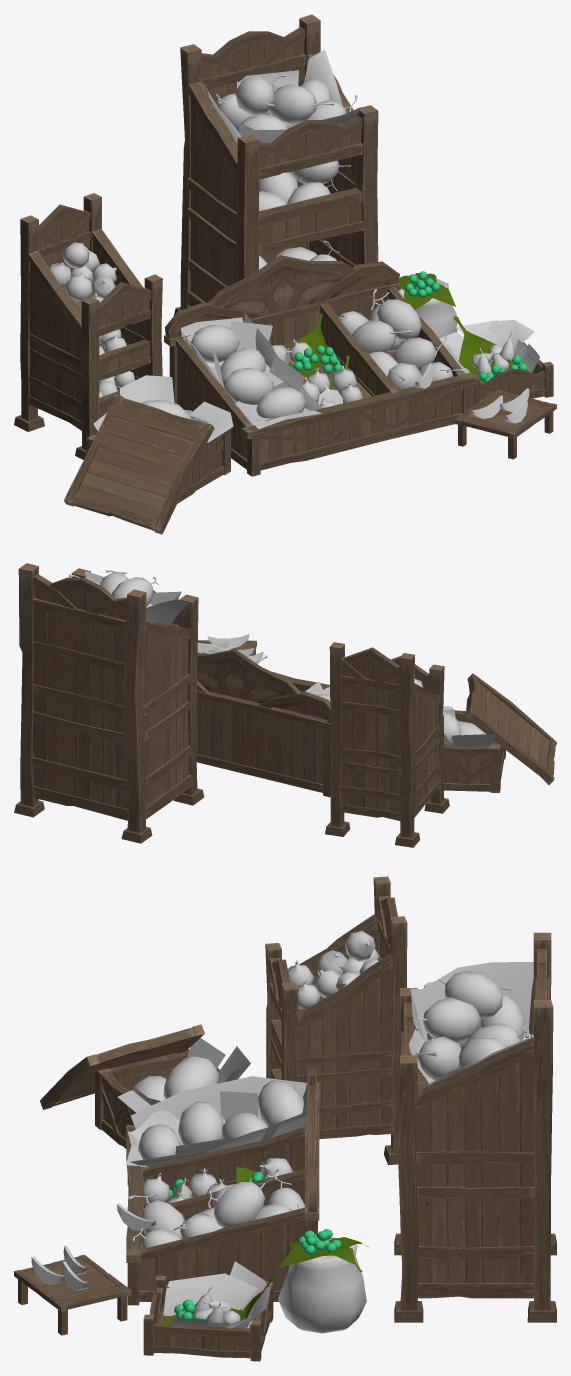
File: Homeworld_Exterior_Xm_Build_FruitStand_01_Lod0.fbx
3 views of the same model, one above another, from view 1: azimuth 30°, elevation 25°; view 2: azimuth 150°, elevation 25°; view 3: azimuth 270°, elevation 25° (orthographic). The views are drawn at different scales.
Parts seen in each view (by area): view 1: Area_Xm_Prop_XKC_Shuiguotan_01_Lod0; view 2: Area_Xm_Prop_XKC_Shuiguotan_01_Lod0; view 3: Area_Xm_Prop_XKC_Shuiguotan_01_Lod0.
Part boxes in pixels (bbox=[...]): Area_Xm_Prop_XKC_Shuiguotan_01_Lod0: bbox=[14, 14, 556, 534]; Area_Xm_Prop_XKC_Shuiguotan_01_Lod0: bbox=[14, 563, 556, 847]; Area_Xm_Prop_XKC_Shuiguotan_01_Lod0: bbox=[14, 876, 556, 1361].
Size of what is drawn, in the model's own units: 5.82 by 2.99 by 4.68.
